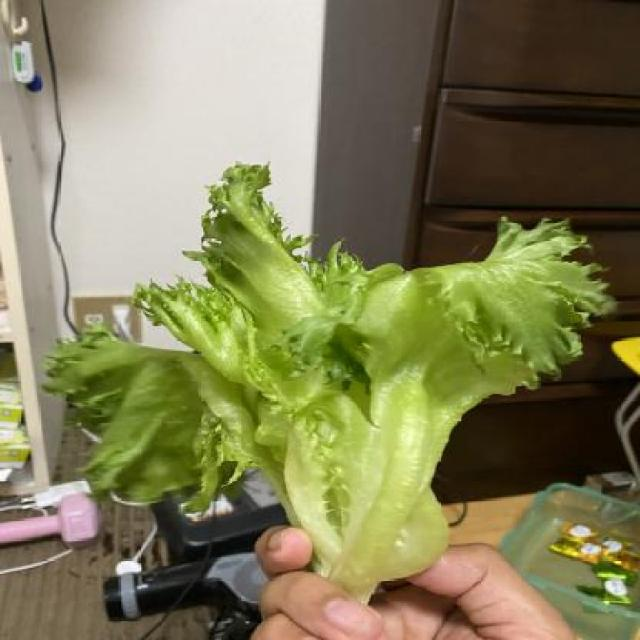lettuce: (39, 158, 626, 610)
